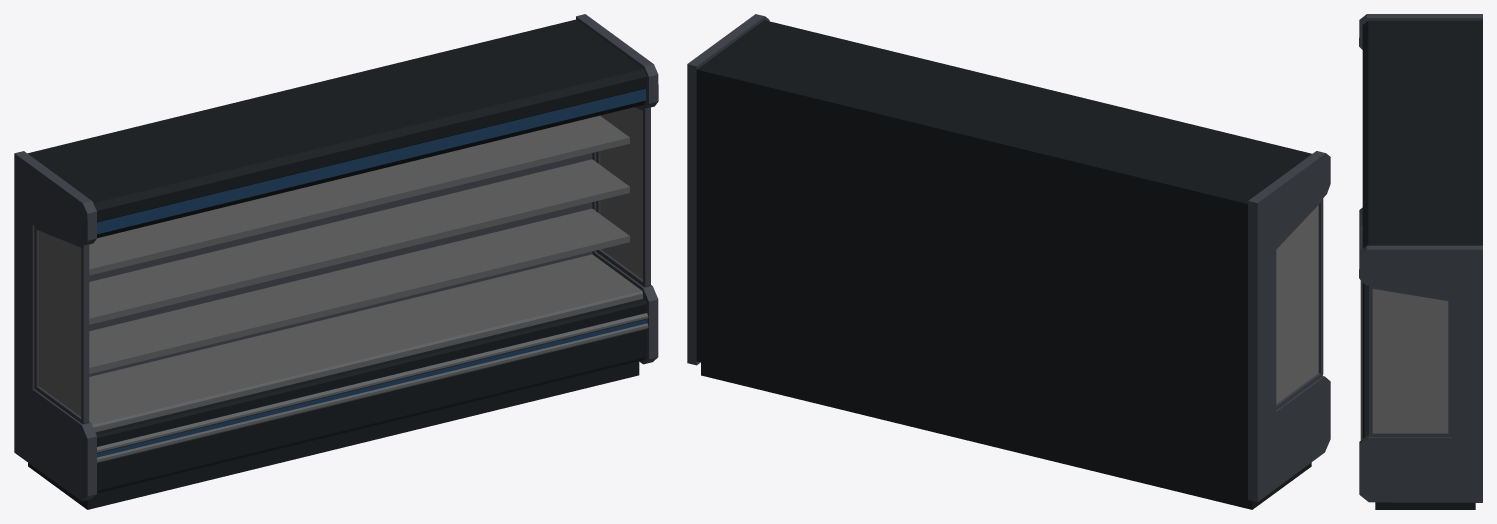
The model's file is FridgeWall01.fbx.
3 views of the same model, side by side, from view 1: azimuth 30°, elevation 25°; view 2: azimuth 150°, elevation 25°; view 3: azimuth 270°, elevation 25° (orthographic). The views are drawn at different scales.
Visible parts, largest first — view 1: FridgeWall01; view 2: FridgeWall01; view 3: FridgeWall01.
Boxes of the visible parts, left/top/right/bottom form: FridgeWall01: left=14, top=14, right=658, bottom=509; FridgeWall01: left=687, top=14, right=1330, bottom=509; FridgeWall01: left=1359, top=14, right=1482, bottom=509.
Size of the model in its own units: 466 by 244 by 103.
